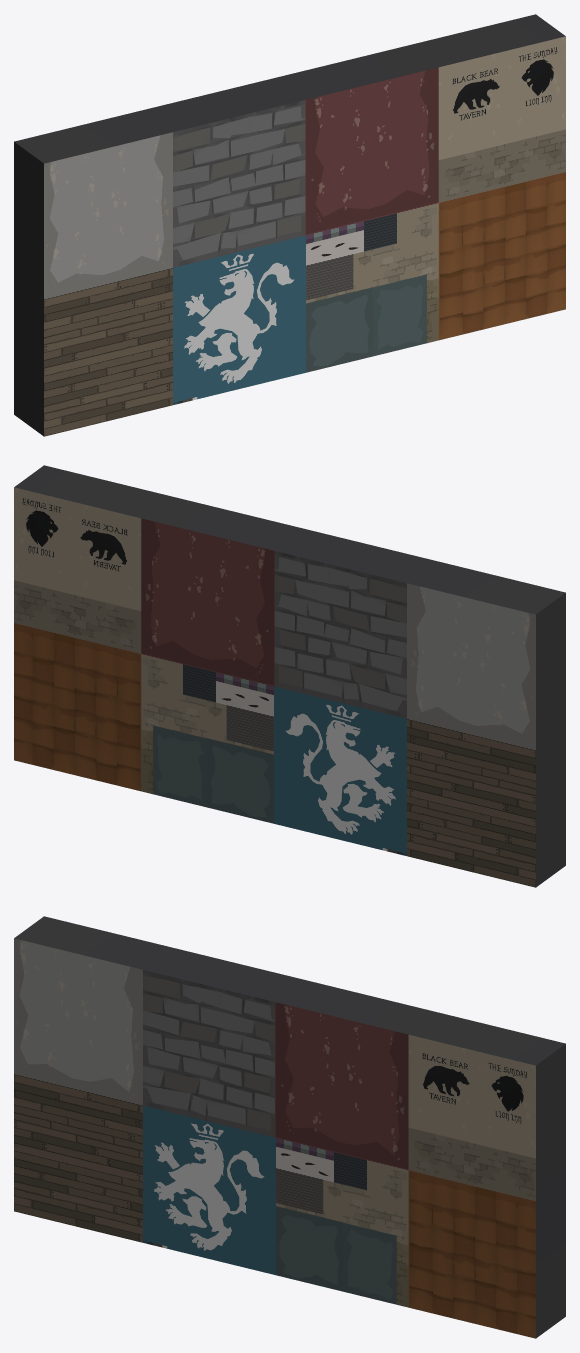
The model's file is kingdom_SM_Bld_Castle_Wall_Cut_02.gltf.
3 views of the same model, one above another, from view 1: azimuth 30°, elevation 25°; view 2: azimuth 150°, elevation 25°; view 3: azimuth 330°, elevation 25° (orthographic).
Parts seen in each view (by area): view 1: SM_Bld_Castle_Wall_Cut_02; view 2: SM_Bld_Castle_Wall_Cut_02; view 3: SM_Bld_Castle_Wall_Cut_02.
Part boxes in pixels (left/top/right/bottom): SM_Bld_Castle_Wall_Cut_02: left=14, top=14, right=565, bottom=436; SM_Bld_Castle_Wall_Cut_02: left=14, top=465, right=565, bottom=887; SM_Bld_Castle_Wall_Cut_02: left=14, top=916, right=565, bottom=1338.
Size of the model in its own units: 5 by 2.5 by 0.4999.
1 material, 1 textured.
